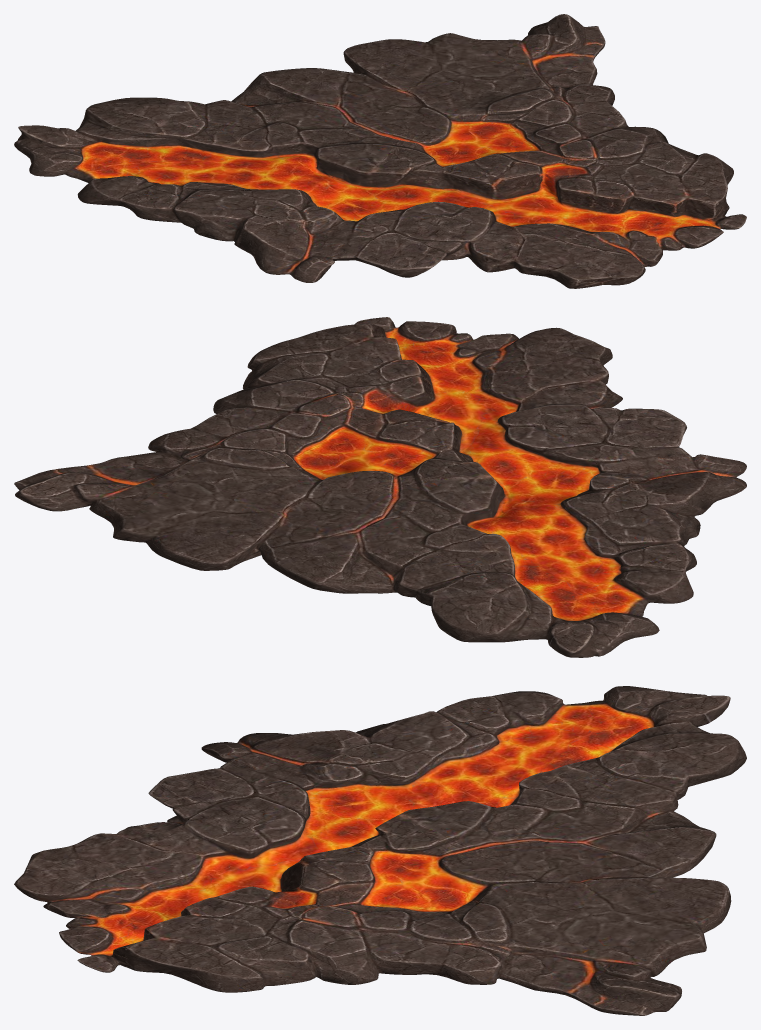
The picture shows the model from 3 angles, top to bottom: view 1: azimuth 30°, elevation 25°; view 2: azimuth 150°, elevation 25°; view 3: azimuth 270°, elevation 25°; orthographic projection. The views are drawn at different scales.
Bounding box in the file's own units: 7.97 × 0.2319 × 7.47.
1 material, 1 textured.
